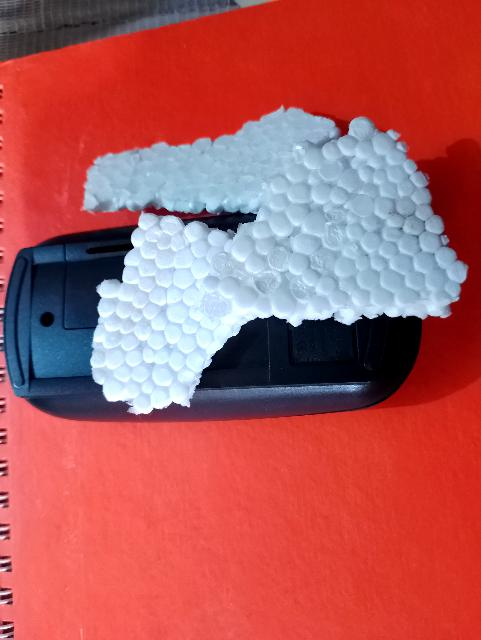cocksheet: (120, 130, 456, 338)
